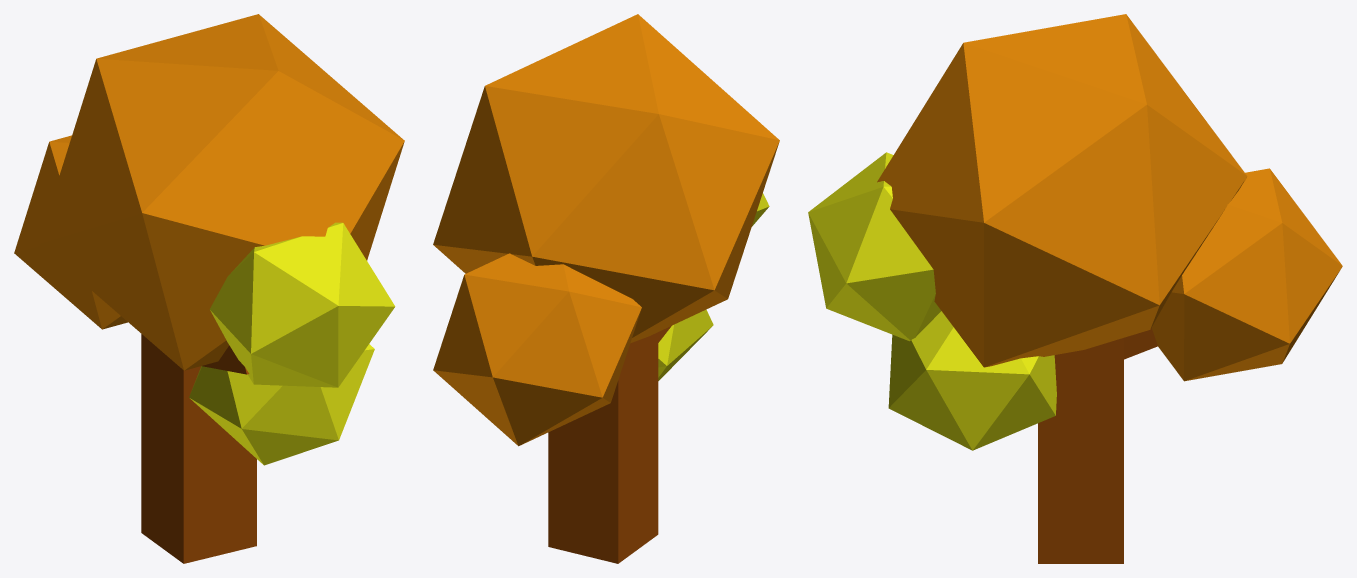
File: wood2.fbx
3 views of the same model, side by side, from view 1: azimuth 30°, elevation 25°; view 2: azimuth 150°, elevation 25°; view 3: azimuth 270°, elevation 25° (orthographic). The views are drawn at different scales.
Parts seen in each view (by area): view 1: wood.001; view 2: wood.001; view 3: wood.001.
Part boxes in pixels (box(x1,y1,x2,y2)): wood.001: box(14, 14, 404, 563); wood.001: box(433, 14, 779, 563); wood.001: box(808, 14, 1342, 563).
Size of the model in its own units: 169 by 275 by 259.
